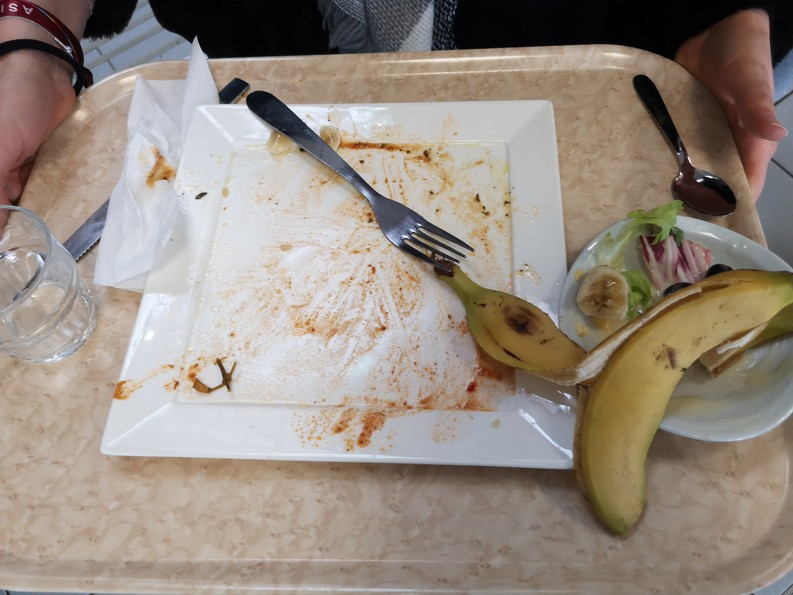cup: (1, 204, 108, 359)
cutlery: (24, 69, 255, 283), (242, 79, 465, 267), (625, 67, 746, 226)
orga: (594, 214, 770, 530), (445, 268, 606, 398)
trash: (111, 75, 208, 297)
